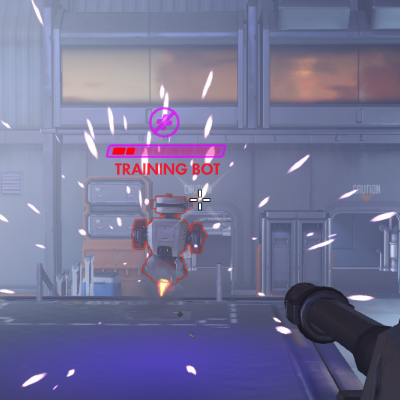hpbar: (112, 147, 221, 155)
